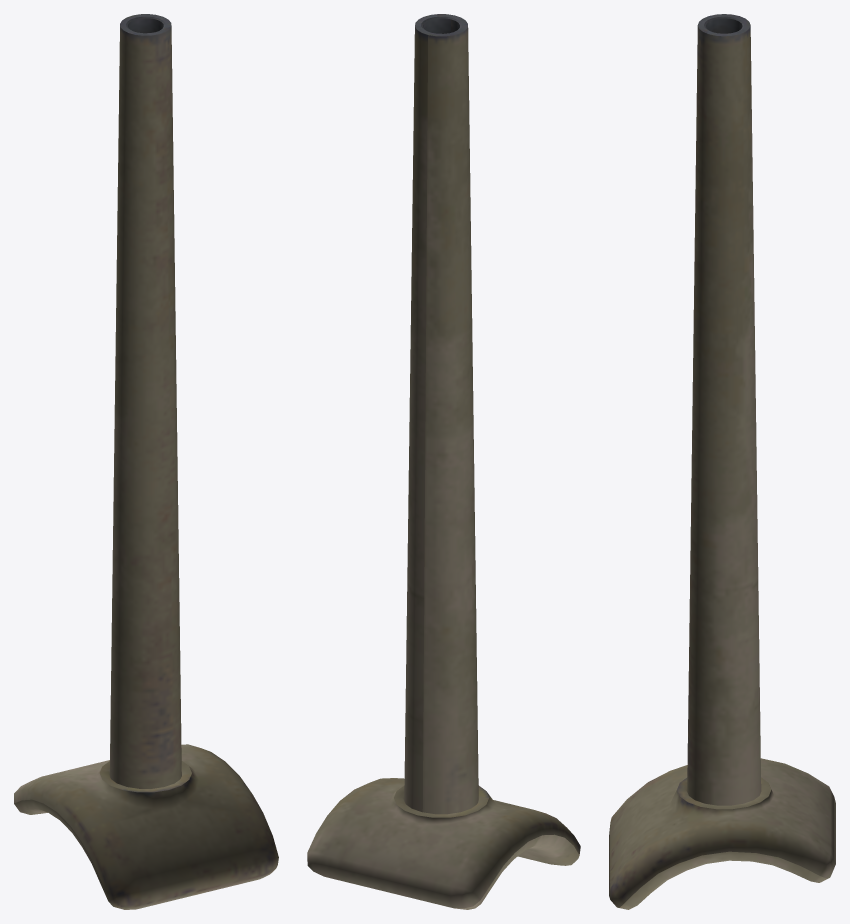
The model's file is Gun_06.glb.
3 renders of one model, left to right at view 1: azimuth 30°, elevation 25°; view 2: azimuth 150°, elevation 25°; view 3: azimuth 270°, elevation 25°, orthographic. The views are drawn at different scales.
Parts seen in each view (by area): view 1: set_0_group_0; view 2: set_0_group_0; view 3: set_0_group_0.
Part boxes in pixels (x1,y1,x2,y2): set_0_group_0: [14, 14, 278, 909]; set_0_group_0: [307, 14, 580, 909]; set_0_group_0: [609, 14, 835, 909].
Size of the model in its own units: 0.4109 by 1.9 by 0.4595.
1 material, 1 textured.
